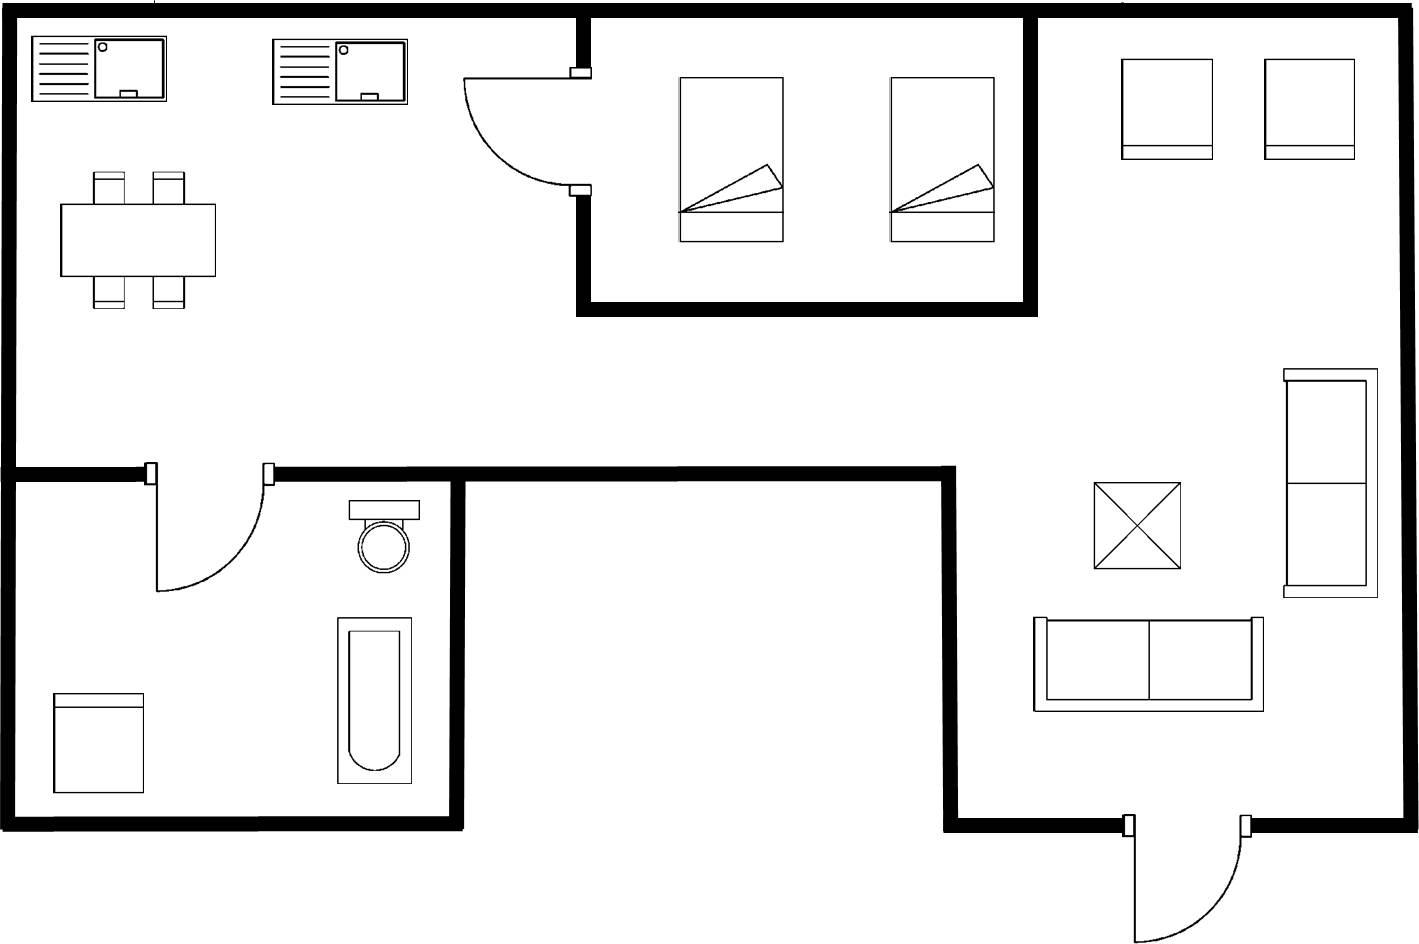bed: (672, 68, 789, 247), (885, 70, 997, 248)
dining_table: (52, 163, 221, 315)
sink: (27, 29, 173, 109), (267, 33, 411, 109)
sofa: (1027, 611, 1267, 717), (1281, 363, 1382, 603)
toilet: (342, 494, 423, 578)
tub: (332, 610, 415, 788)
